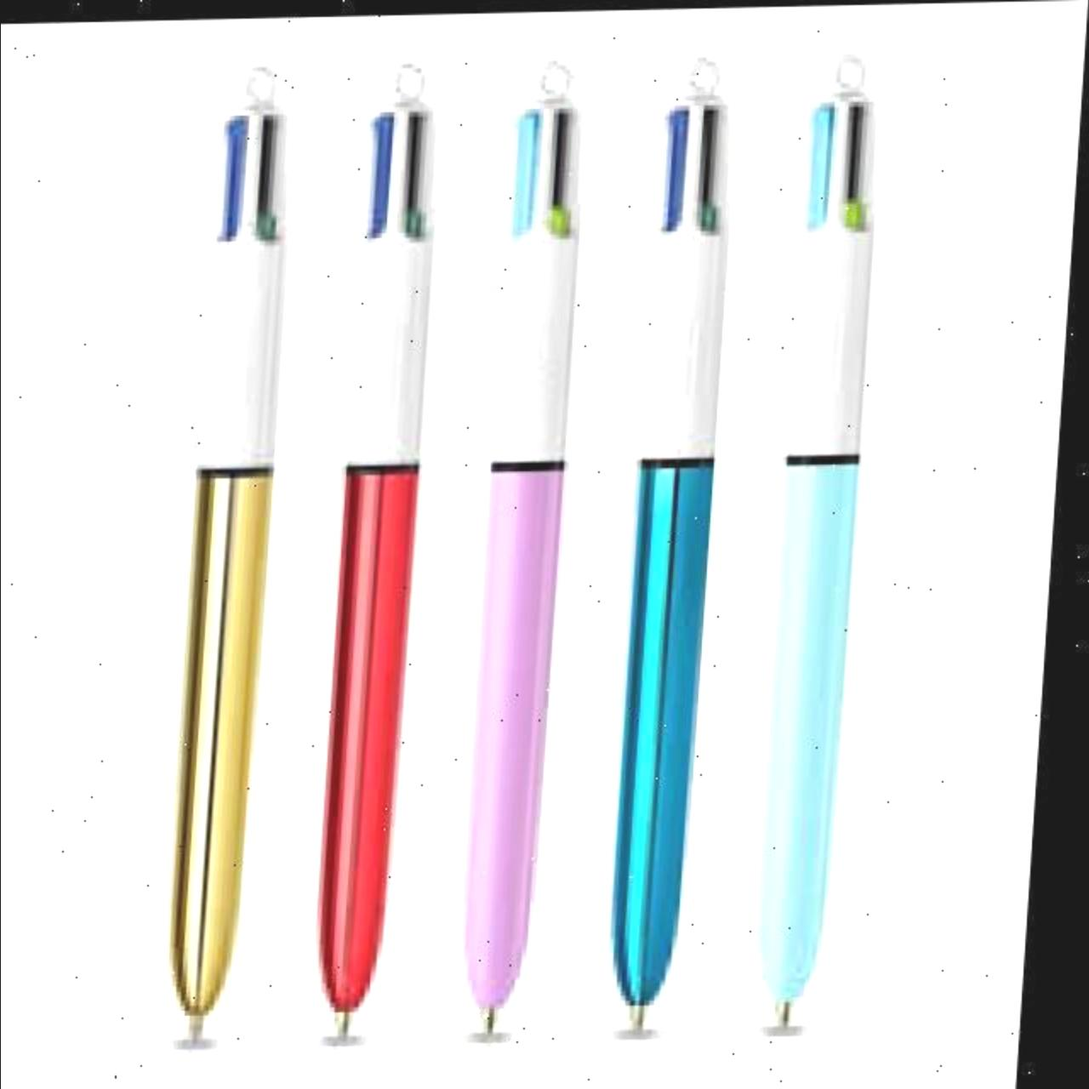pen: (143, 48, 315, 1052), (439, 54, 601, 1046), (738, 51, 892, 1040), (589, 51, 740, 1033), (303, 61, 449, 1050)
